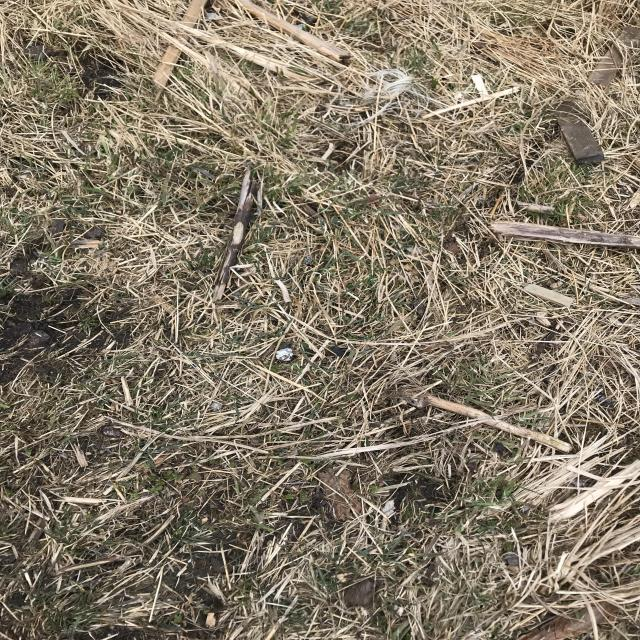litter: (464, 259, 483, 274)
